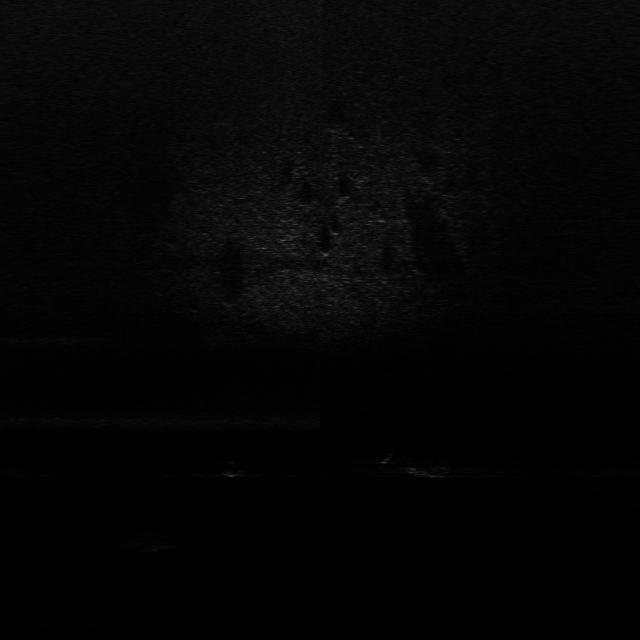ball: (220, 458, 250, 481)
circle cage: (126, 531, 173, 555)
human body: (379, 448, 472, 485)
